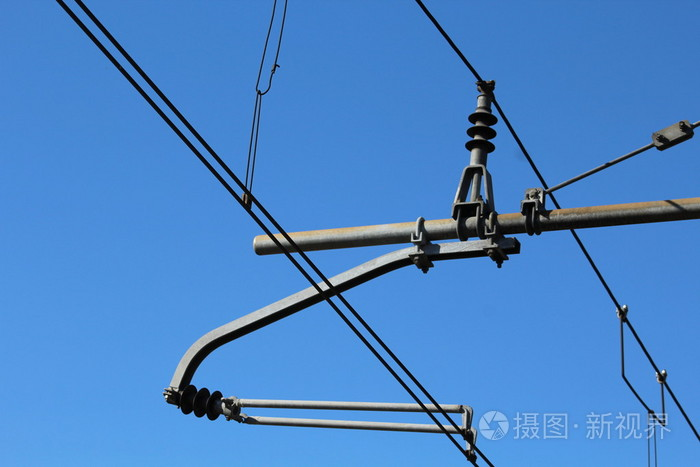insulator: (175, 384, 221, 422), (460, 112, 500, 154)
